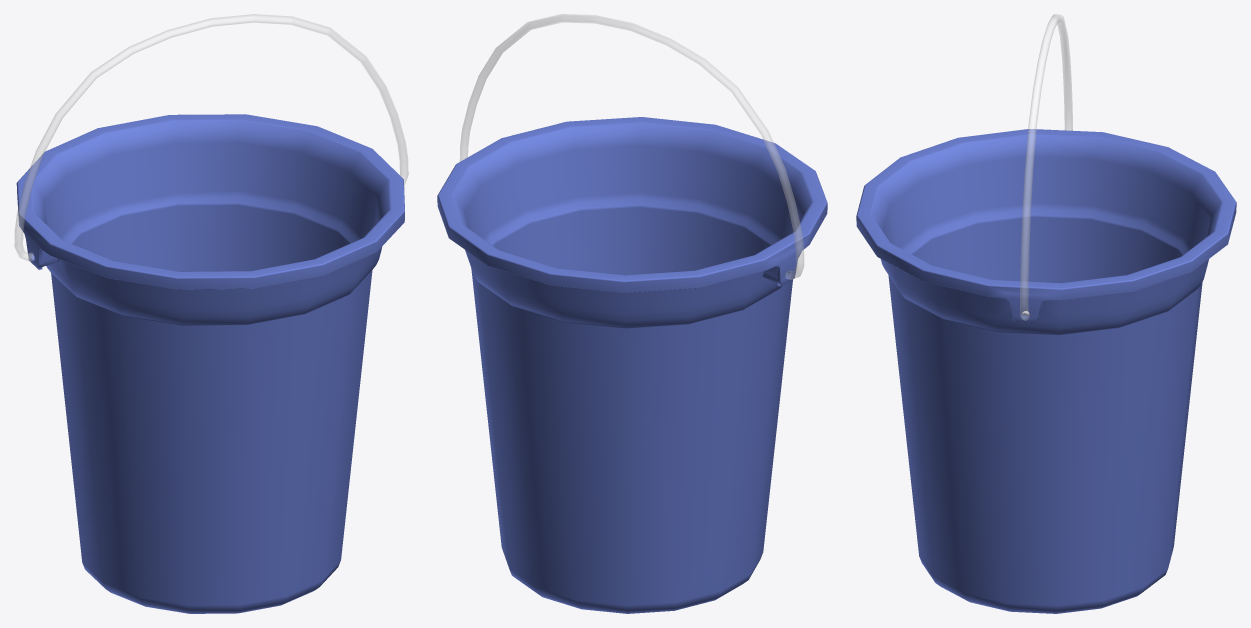
The model's file is bucket.glb.
3 views of the same model, side by side, from view 1: azimuth 30°, elevation 25°; view 2: azimuth 150°, elevation 25°; view 3: azimuth 270°, elevation 25° (orthographic). The views are drawn at different scales.
Visible parts, largest first — view 1: rv_bucket; view 2: rv_bucket; view 3: rv_bucket.
Part boxes in pixels (bbox=[...]): rv_bucket: bbox=[14, 14, 408, 613]; rv_bucket: bbox=[437, 14, 827, 613]; rv_bucket: bbox=[856, 14, 1236, 613].
Size of the model in its own units: 3.3 by 4.67 by 3.04.
